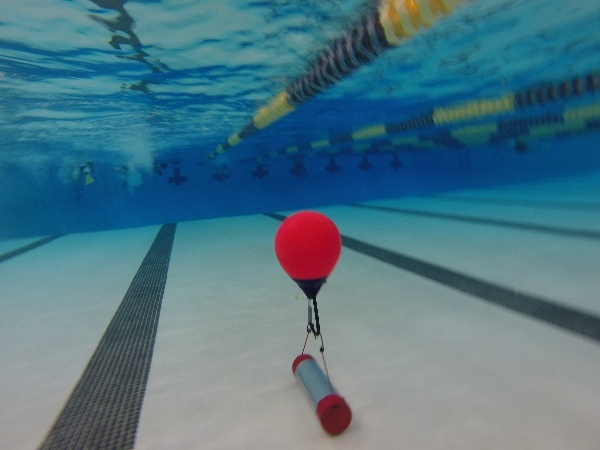buoy_red: (269, 210, 348, 304)
